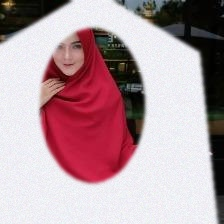Mukena: (0, 32, 204, 224)
